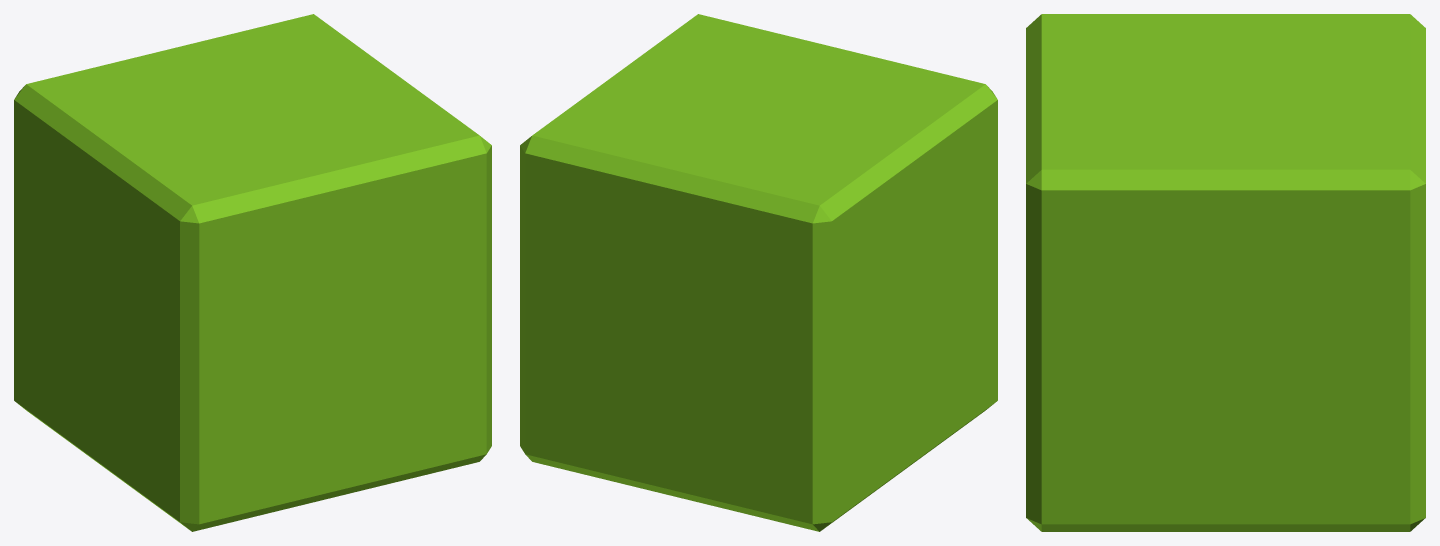
Rendered from stone-lightgreen.glb.
3 renders of one model, left to right at view 1: azimuth 30°, elevation 25°; view 2: azimuth 150°, elevation 25°; view 3: azimuth 270°, elevation 25°, orthographic. The views are drawn at different scales.
Parts seen in each view (by area): view 1: stone-lightgreen; view 2: stone-lightgreen; view 3: stone-lightgreen.
Part boxes in pixels (x1,y1,x2,y2): stone-lightgreen: (14, 14, 491, 531); stone-lightgreen: (520, 14, 997, 531); stone-lightgreen: (1026, 14, 1425, 531).
Bounding box in the file's own units: 1 × 1 × 1.
